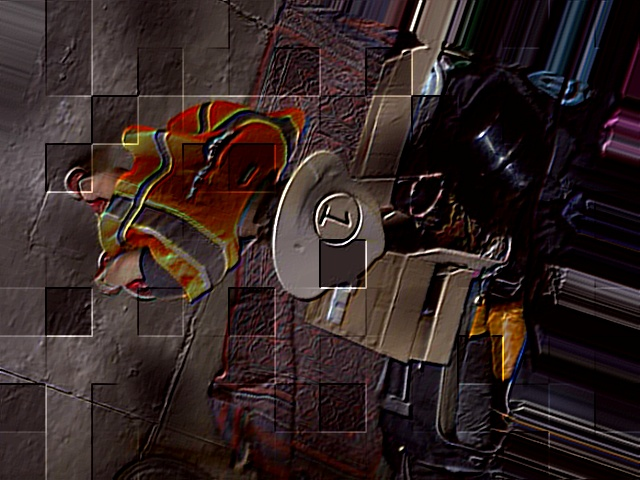one: (308, 188, 366, 249)
